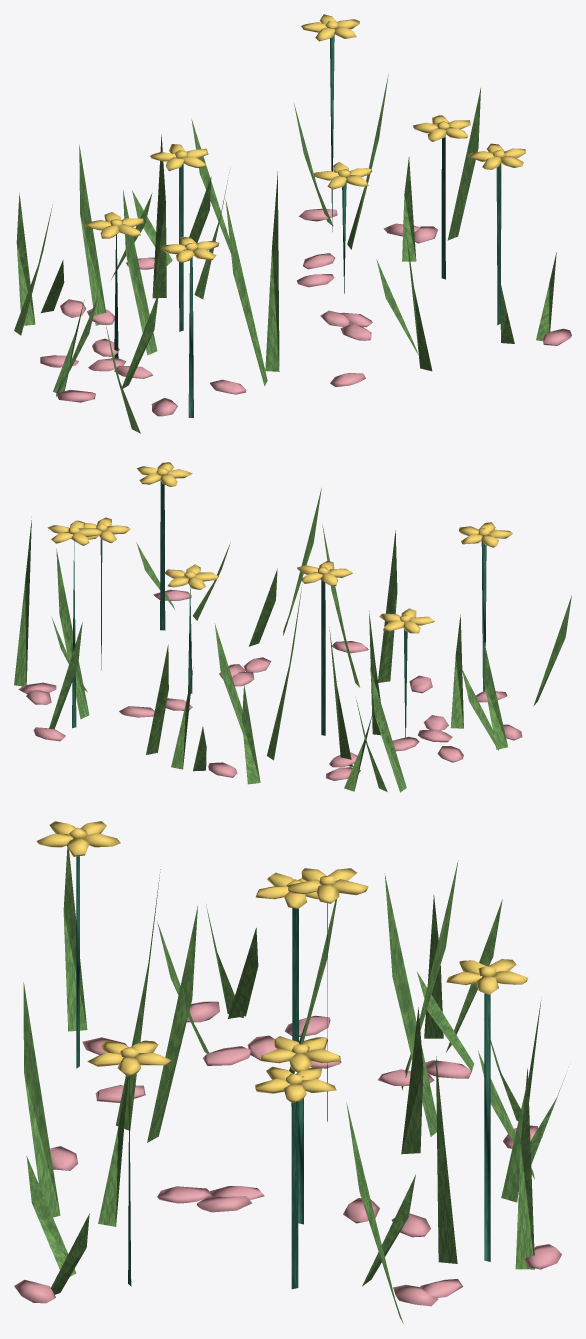
Rendered from flowers.glb.
3 views of the same model, one above another, from view 1: azimuth 30°, elevation 25°; view 2: azimuth 150°, elevation 25°; view 3: azimuth 270°, elevation 25° (orthographic). The views are drawn at different scales.
Parts seen in each view (by area): view 1: flowers; view 2: flowers; view 3: flowers.
Part boxes in pixels (bbox=[...]): flowers: bbox=[14, 14, 571, 433]; flowers: bbox=[14, 462, 571, 792]; flowers: bbox=[14, 821, 565, 1323].
Bounding box in the file's own units: 0.9331 × 0.3999 × 0.6866.
1 material, 1 textured.
